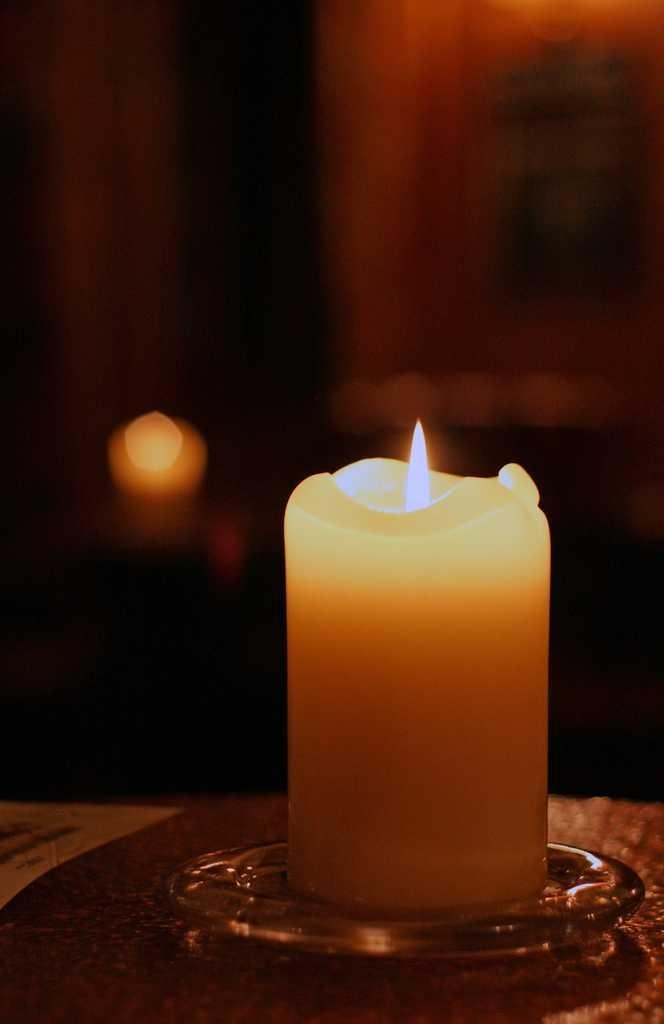fire: (405, 430, 438, 515)
